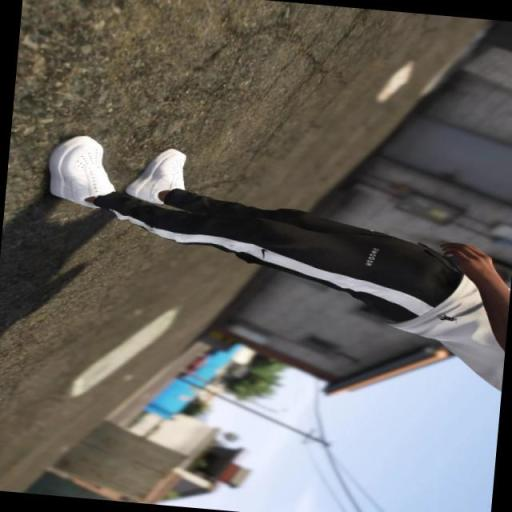Nike: (257, 247, 266, 259)
